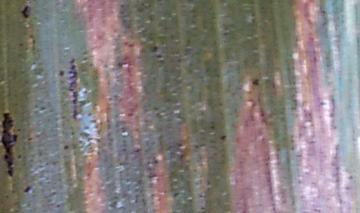tarspot: (1, 110, 19, 179), (67, 56, 79, 120), (19, 4, 31, 20), (27, 33, 37, 51), (251, 77, 260, 86), (218, 133, 227, 142), (150, 156, 159, 165), (132, 146, 142, 154), (22, 184, 30, 193), (126, 110, 135, 118), (178, 151, 185, 161), (57, 69, 64, 78), (151, 44, 158, 53), (62, 143, 70, 150), (343, 184, 350, 191), (208, 123, 215, 130), (155, 53, 163, 59), (347, 172, 353, 180), (17, 41, 25, 47), (16, 153, 22, 160)
